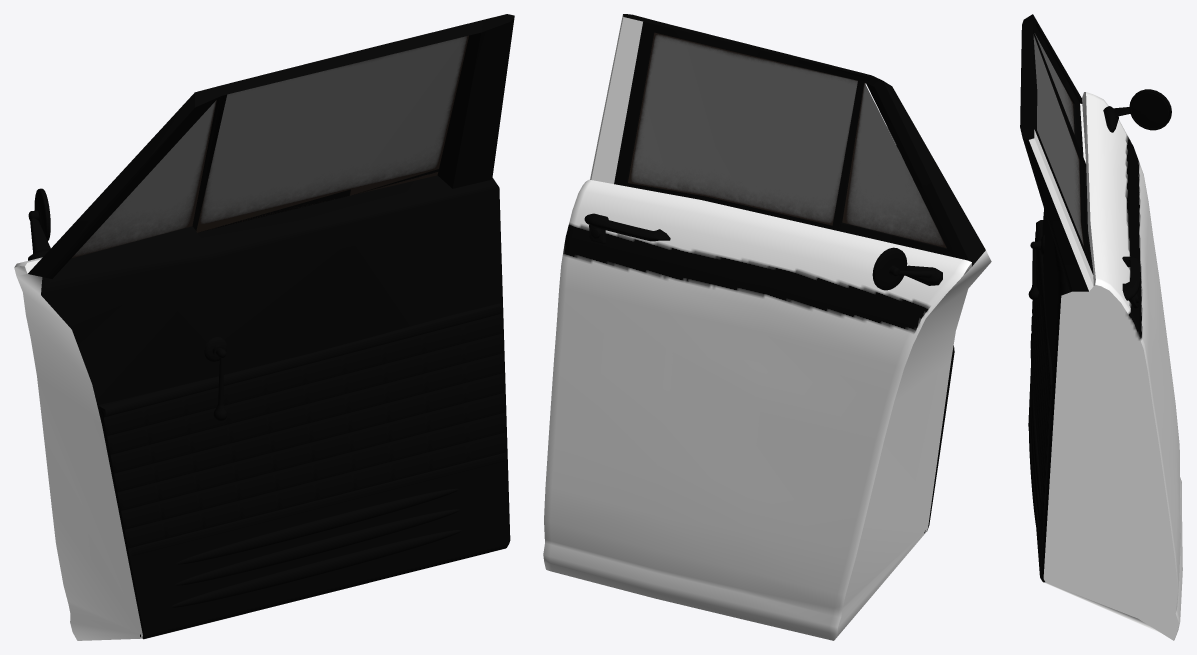
The picture shows the model from 3 angles, left to right: view 1: azimuth 30°, elevation 25°; view 2: azimuth 150°, elevation 25°; view 3: azimuth 270°, elevation 25°; orthographic projection. The views are drawn at different scales.
Visible parts, largest first — view 1: SM_CR03_FD_R_01_LOD0; view 2: SM_CR03_FD_R_01_LOD0; view 3: SM_CR03_FD_R_01_LOD0.
Boxes of the visible parts, box(x1,y1,x2,y2) form: SM_CR03_FD_R_01_LOD0: box(14, 14, 514, 640); SM_CR03_FD_R_01_LOD0: box(543, 14, 991, 640); SM_CR03_FD_R_01_LOD0: box(1020, 14, 1182, 640).
Bounding box in the file's own units: 97.27 × 35.98 × 122.
Materials: 3 (3 with a texture image).
